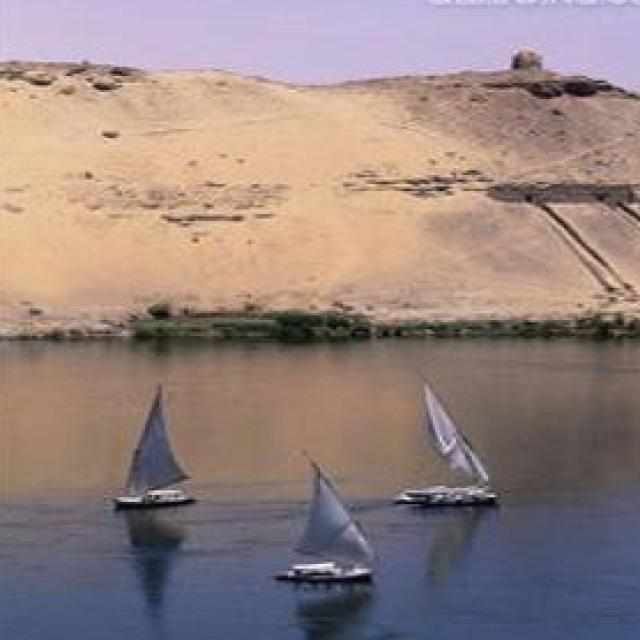sailboat: (394, 372, 501, 511), (273, 443, 371, 582), (108, 379, 195, 504)
